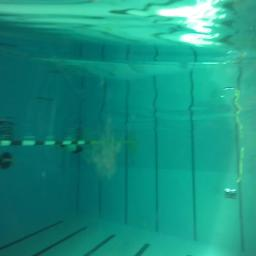front: (224, 188, 238, 199)
